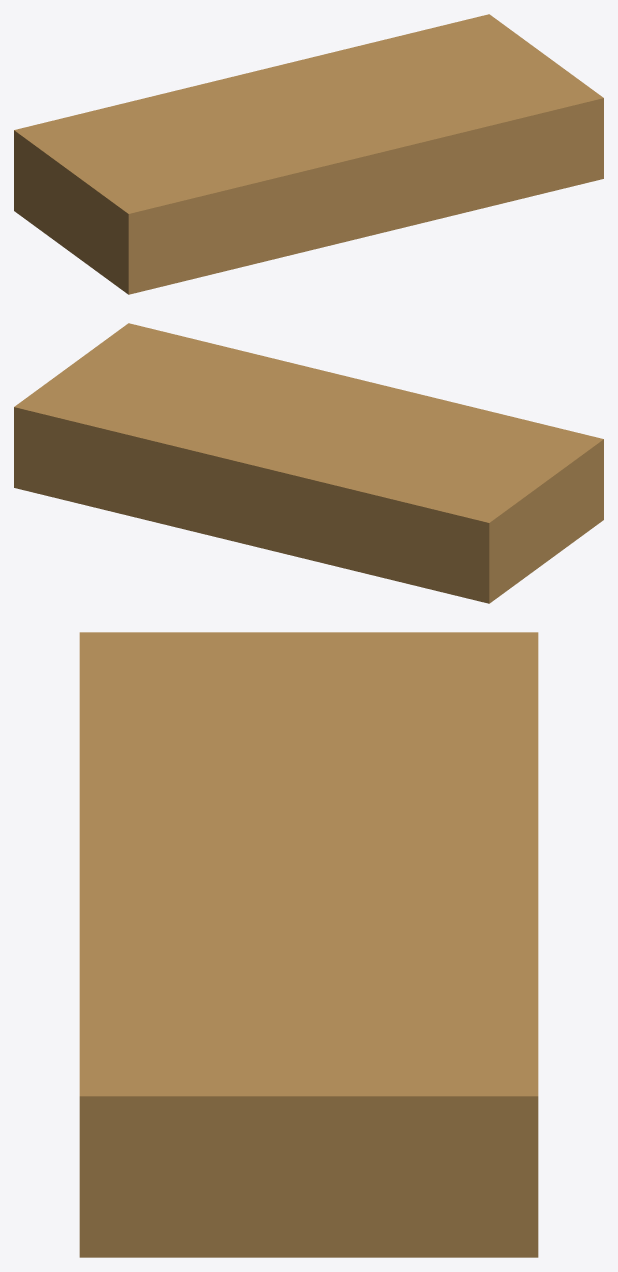
The picture shows the model from 3 angles, top to bottom: view 1: azimuth 30°, elevation 25°; view 2: azimuth 150°, elevation 25°; view 3: azimuth 270°, elevation 25°; orthographic projection. The views are drawn at different scales.
Parts seen in each view (by area): view 1: RUN-046-S00-ribbon; view 2: RUN-046-S00-ribbon; view 3: RUN-046-S00-ribbon.
Part boxes in pixels (box(x1,y1,x2,y2)): RUN-046-S00-ribbon: box(14, 14, 603, 294); RUN-046-S00-ribbon: box(14, 323, 603, 603); RUN-046-S00-ribbon: box(79, 632, 538, 1257).
Bounding box in the file's own units: 0.2155 × 0.035 × 0.09.
